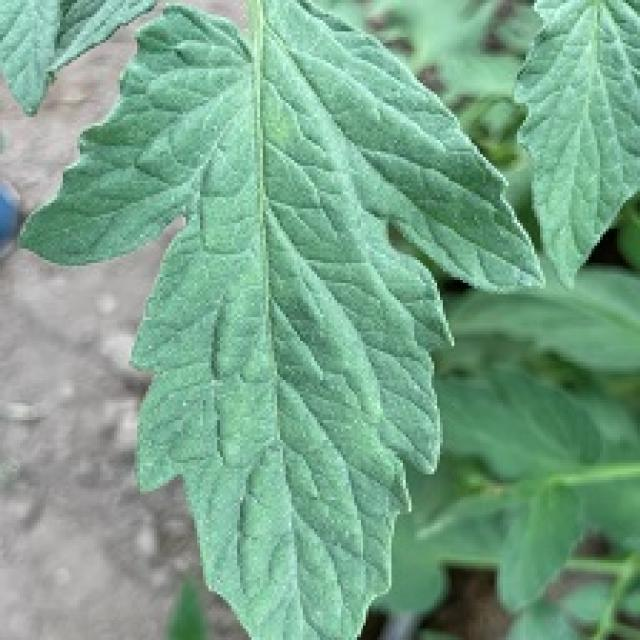Healthy: (0, 0, 627, 640)
